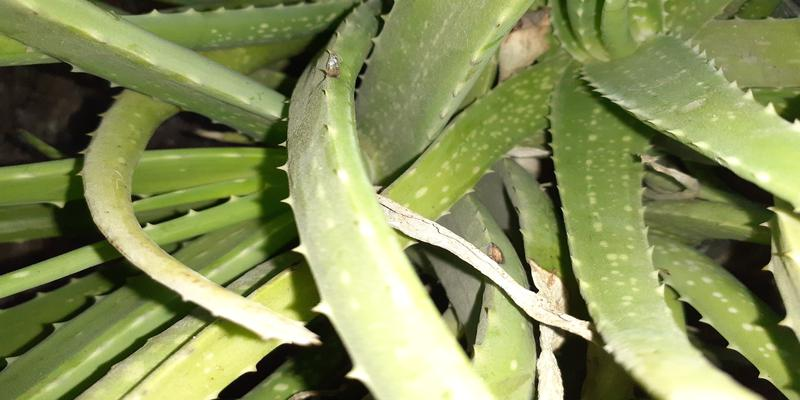Aloevera: (141, 13, 738, 379)
